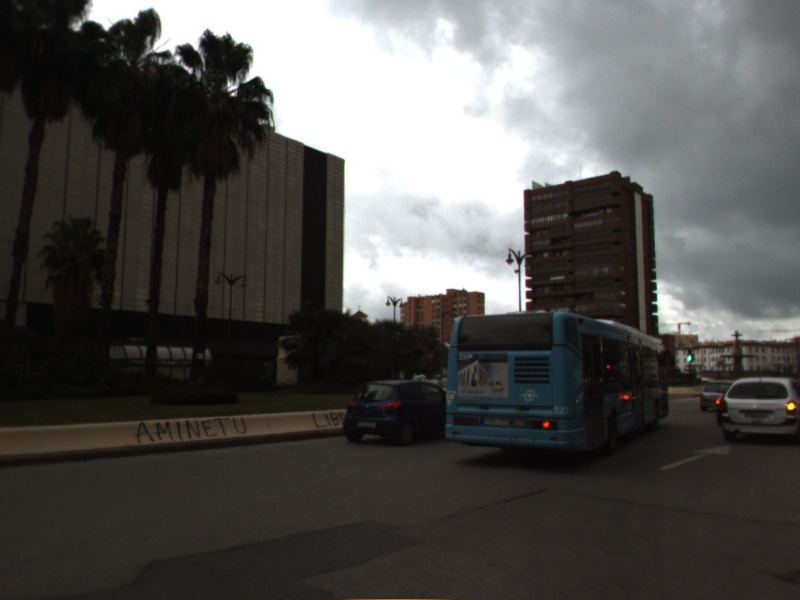STRAIGHT: (656, 443, 734, 473)
